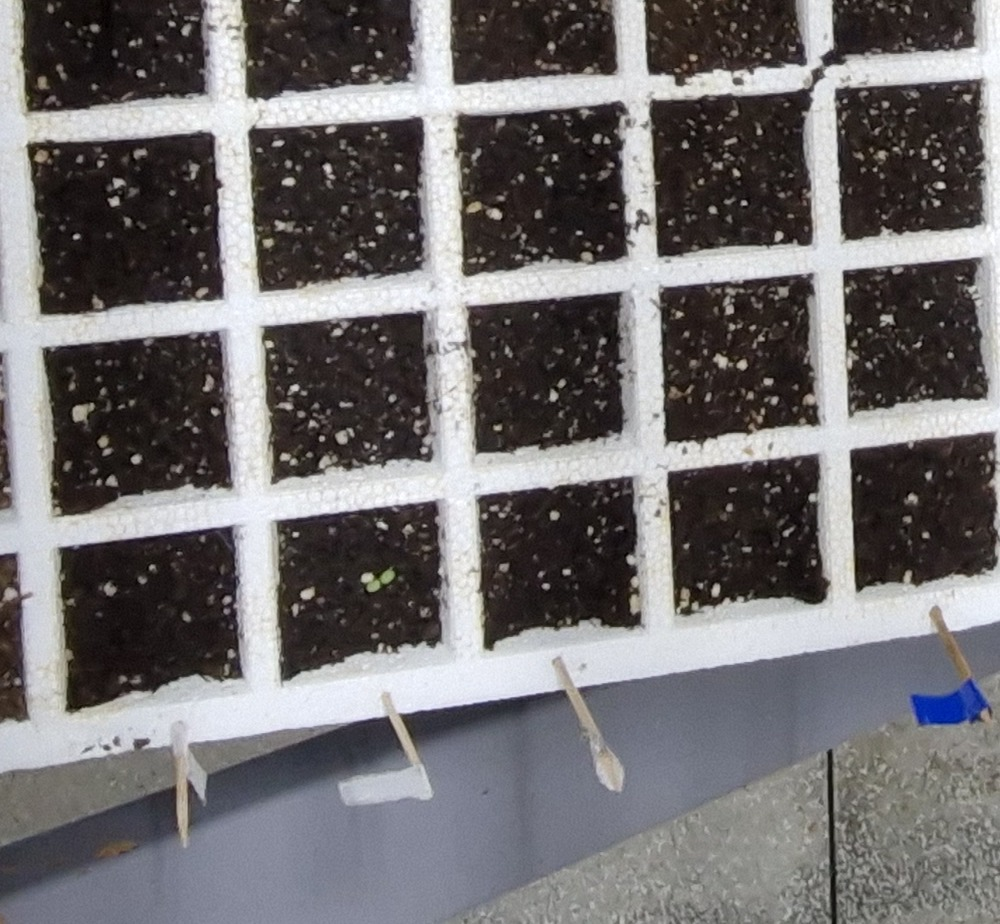Folha: (382, 570, 394, 586), (368, 580, 381, 592)
Germinacao: (366, 570, 396, 591)
